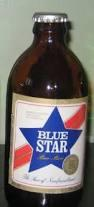Glass bottle: (4, 2, 94, 207)
